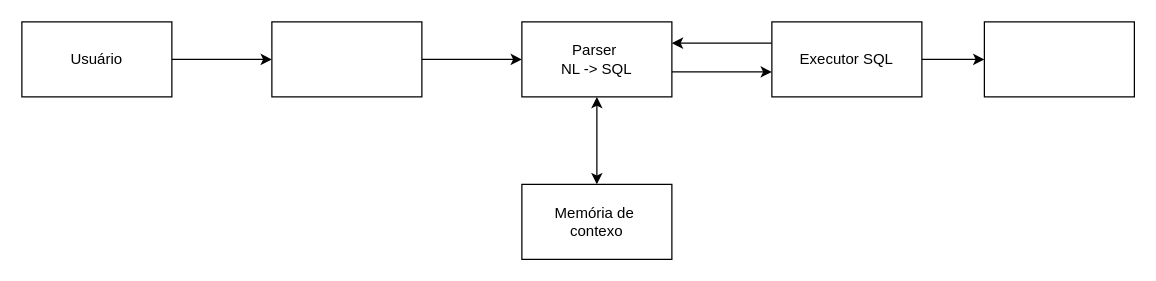
This 1156x281 diagram has some shape labels left out. Each missing label, with the centre of its shape:
SQLite Database: point 1058,59
UI (Notebook/WEB): point 346,59
